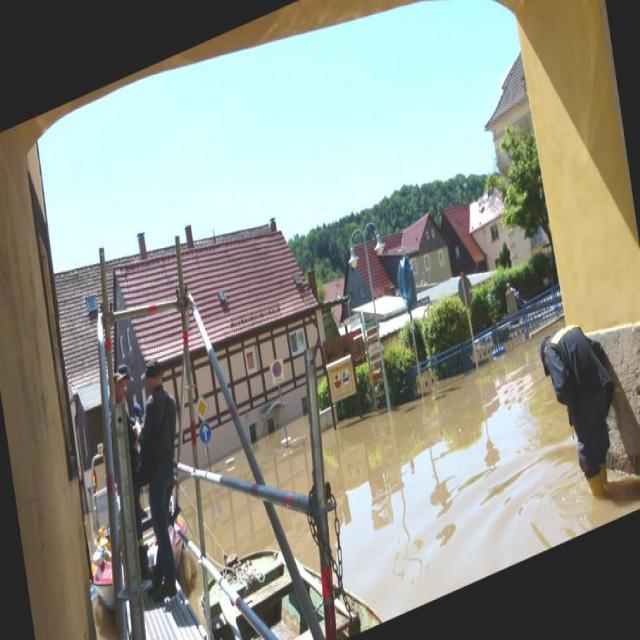flood: (310, 292, 606, 637)
